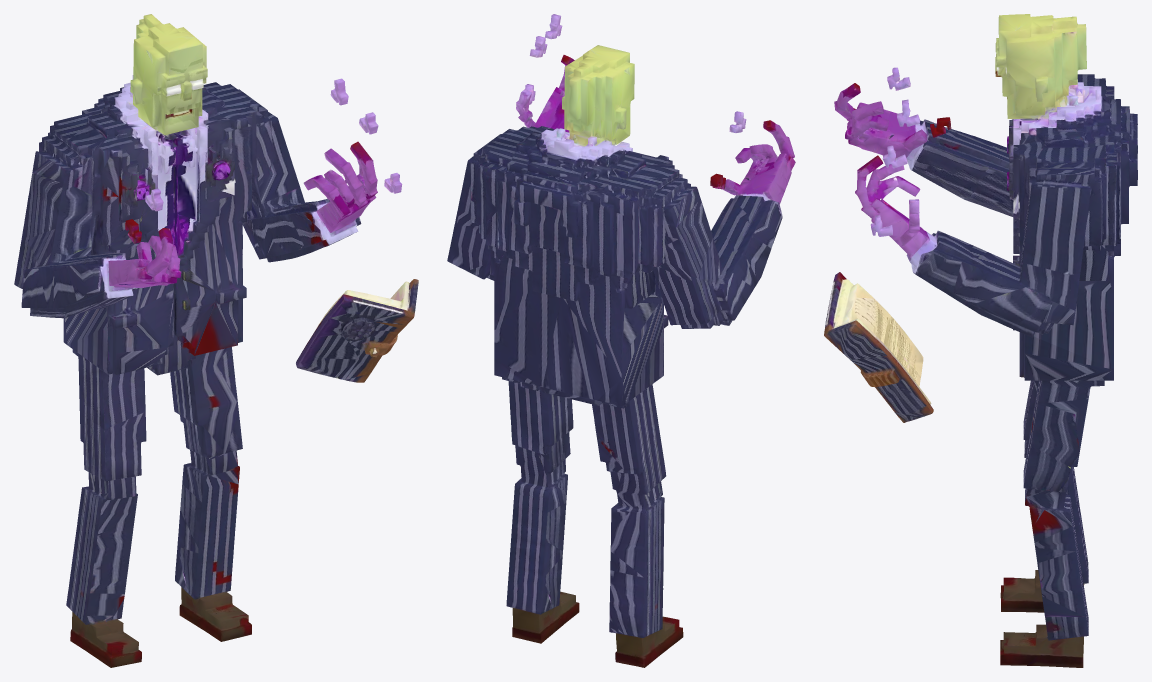
Rendered from necromancer.opt.glb.
3 views of the same model, side by side, from view 1: azimuth 30°, elevation 25°; view 2: azimuth 150°, elevation 25°; view 3: azimuth 270°, elevation 25° (orthographic). The views are drawn at different scales.
Parts seen in each view (by area): view 1: mesh_node; view 2: mesh_node; view 3: mesh_node.
Part boxes in pixels (x1,y1,x2,y2): mesh_node: (14, 14, 418, 667); mesh_node: (447, 14, 795, 667); mesh_node: (824, 14, 1137, 667).
Size of the model in its own units: 0.9978 by 1.9 by 0.8749.
1 material, 1 textured.
